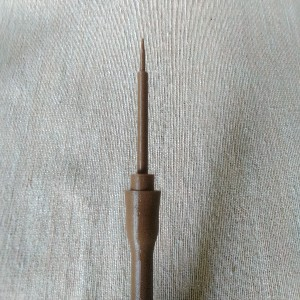solder: (123, 37, 162, 300)
